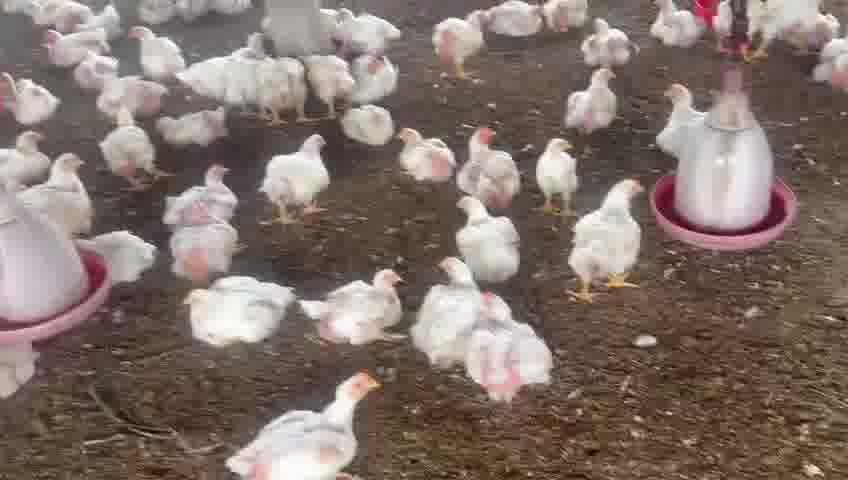AbNormal: (151, 104, 233, 149)
Normal: (222, 375, 385, 480), (465, 295, 559, 411), (179, 271, 303, 358), (571, 170, 644, 308), (309, 271, 414, 346), (413, 256, 478, 374), (262, 130, 335, 220), (445, 188, 514, 280), (454, 126, 526, 206), (165, 205, 239, 280), (156, 164, 253, 221), (30, 153, 100, 229), (96, 116, 165, 191), (252, 54, 315, 136), (536, 124, 591, 210), (555, 70, 626, 136), (434, 6, 489, 86), (96, 71, 170, 124), (578, 14, 639, 76), (392, 130, 455, 190), (125, 22, 188, 82), (341, 104, 399, 150), (43, 25, 116, 61), (10, 74, 55, 119)
